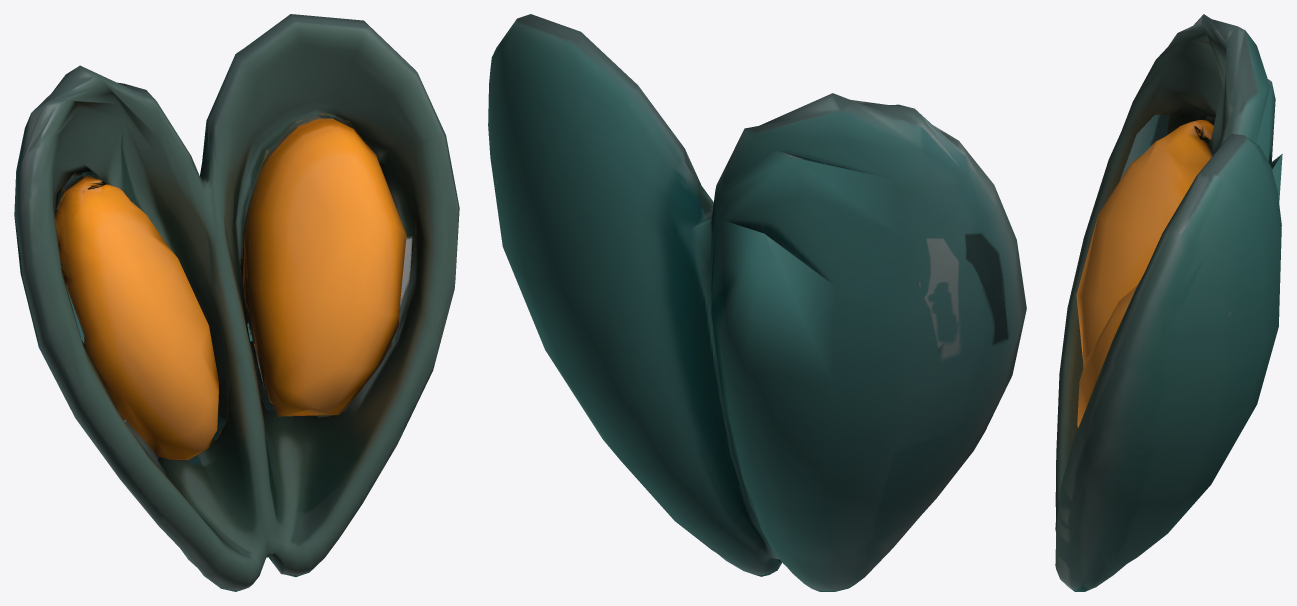
File: image_png_1121131255_texture.fbx
3 renders of one model, left to right at view 1: azimuth 30°, elevation 25°; view 2: azimuth 150°, elevation 25°; view 3: azimuth 270°, elevation 25°, orthographic. The views are drawn at different scales.
Visible parts, largest first — view 1: input; view 2: input; view 3: input.
Boxes of the visible parts, x1=… form: input: x1=14, y1=14, x2=459, y2=591; input: x1=488, y1=14, x2=1026, y2=591; input: x1=1055, y1=14, x2=1282, y2=591.
Bounding box in the file's own units: 173 × 190 × 79.
Materials: 1 (1 with a texture image).
